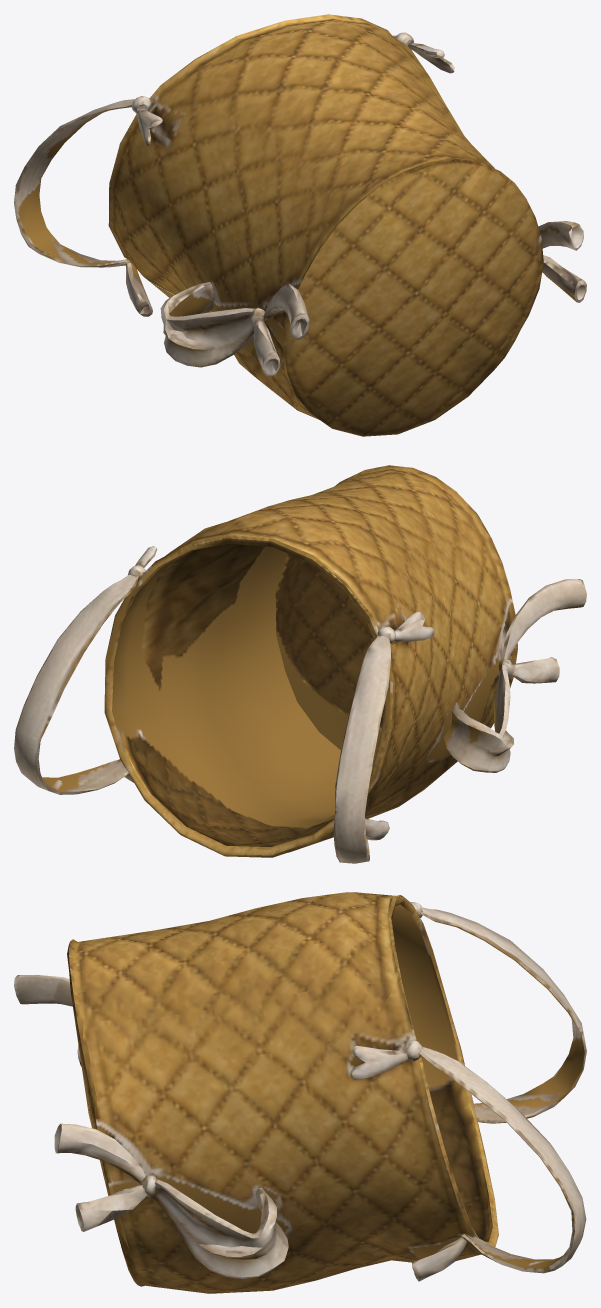
File: item_mm9_10367.glb
The picture shows the model from 3 angles, top to bottom: view 1: azimuth 30°, elevation 25°; view 2: azimuth 150°, elevation 25°; view 3: azimuth 270°, elevation 25°; orthographic projection. The views are drawn at different scales.
Visible parts, largest first — view 1: d10367; view 2: d10367; view 3: d10367.
Boxes of the visible parts, x1=… form: d10367: x1=14, y1=14, x2=586, y2=436; d10367: x1=14, y1=465, x2=586, y2=863; d10367: x1=14, y1=892, x2=586, y2=1293.
Size of the model in its own units: 0.8443 by 0.7503 by 1.05.
Materials: 1 (1 with a texture image).
